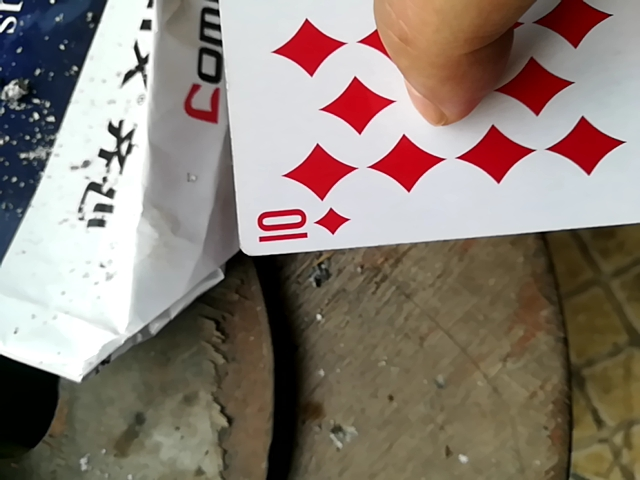fk 10: (203, 1, 638, 259)
